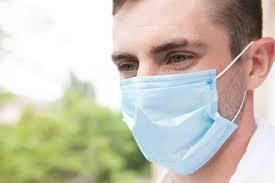mask: (116, 65, 233, 178)
